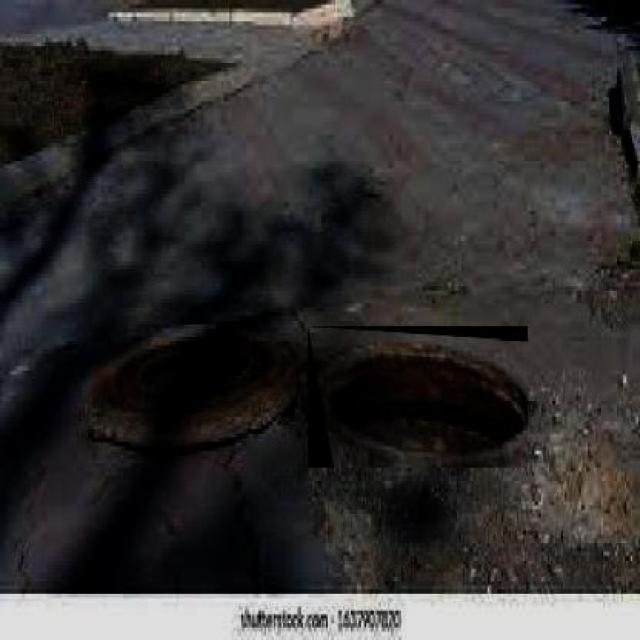Open Manhole: (308, 326, 528, 468)
